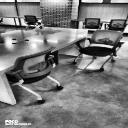chair_fail: (7, 47, 63, 104), (104, 19, 128, 31), (82, 18, 103, 29), (24, 15, 38, 23)
chair_success: (73, 30, 126, 71)
